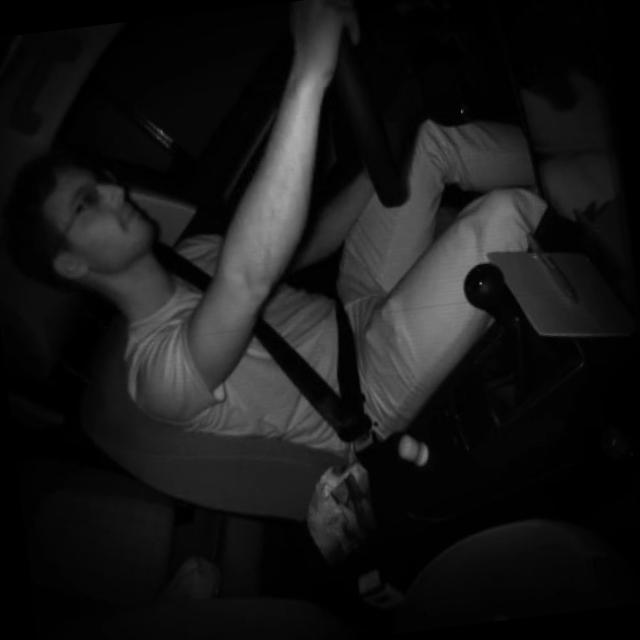pen: (520, 220, 579, 312)
